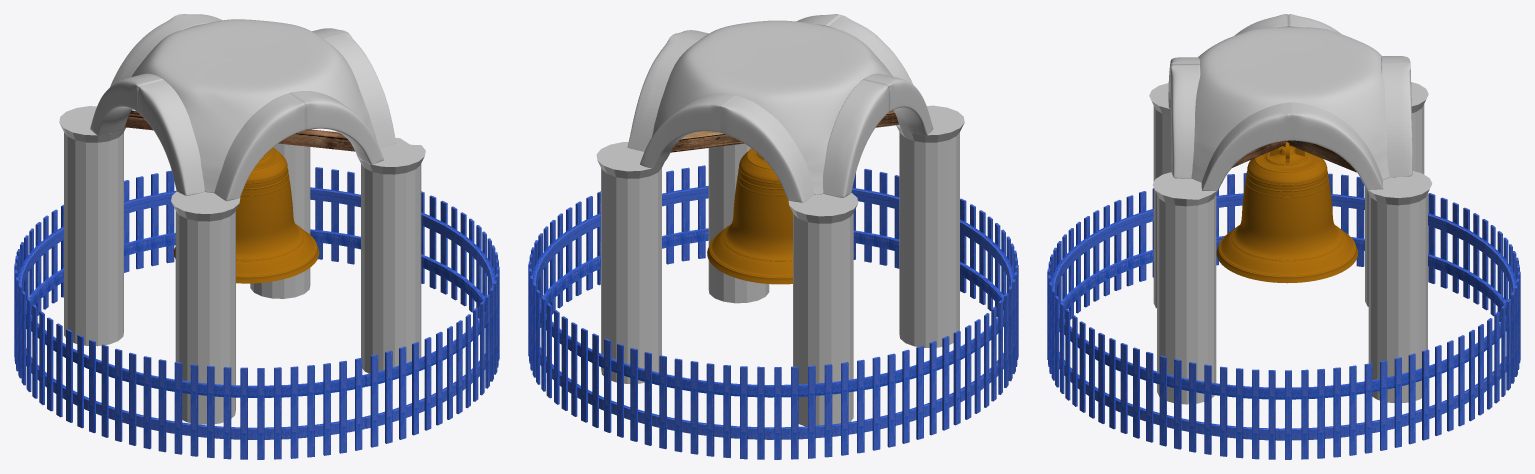
File: level3-test.fbx
3 views of the same model, side by side, from view 1: azimuth 30°, elevation 25°; view 2: azimuth 150°, elevation 25°; view 3: azimuth 270°, elevation 25° (orthographic). The views are drawn at different scales.
Parts seen in each view (by area): view 1: Arch - total, Fense.001, Bell, Wood; view 2: Arch - total, Fense.001, Bell, Wood; view 3: Arch - total, Fense.001, Bell, Wood.
Boxes of the visible parts, x1,y1,x2,y2 form: Arch - total: (59,14,425,424); Fense.001: (14,167,499,459); Bell: (174,147,319,283); Wood: (125,110,354,151); Arch - total: (596,14,964,426); Fense.001: (528,165,1018,459); Bell: (707,148,853,284); Wood: (670,110,899,152); Arch - total: (1149,14,1432,404); Fense.001: (1047,173,1520,459); Bell: (1216,142,1358,283); Wood: (1232,140,1356,172).
Bounding box in the file's own units: 129 × 88.61 × 129.
